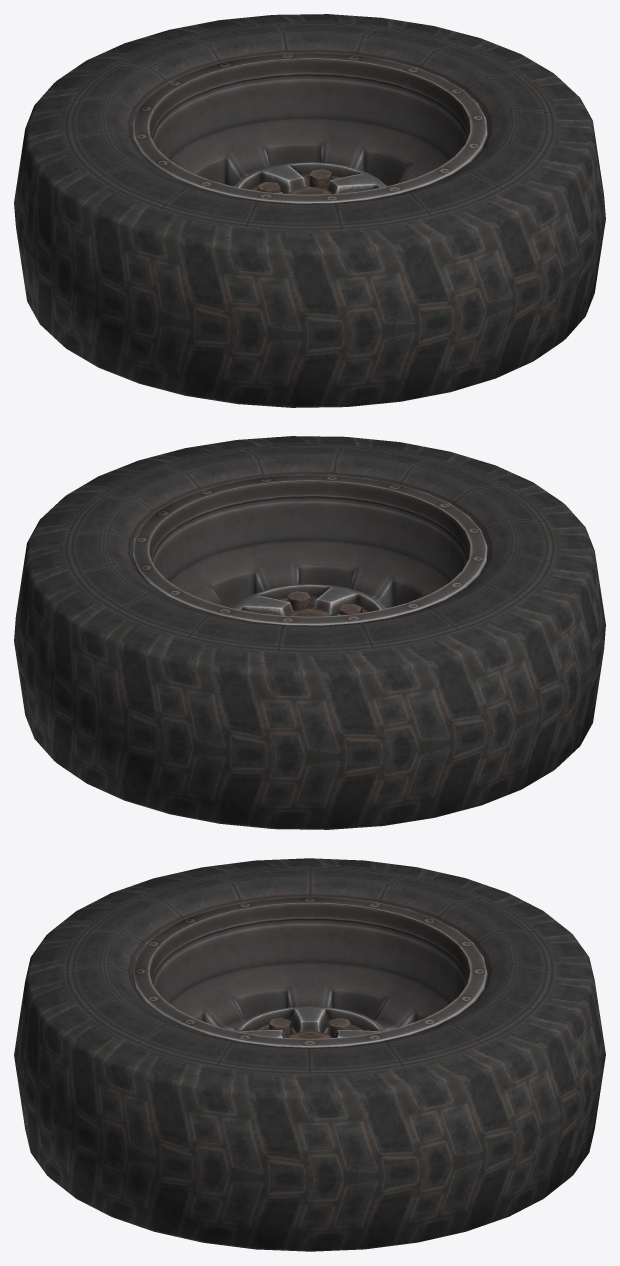
Rendered from Buggy_Wheel_LB.obj.
3 views of the same model, one above another, from view 1: azimuth 30°, elevation 25°; view 2: azimuth 150°, elevation 25°; view 3: azimuth 270°, elevation 25° (orthographic).
Parts seen in each view (by area): view 1: LB_Wheel; view 2: LB_Wheel; view 3: LB_Wheel.
Part boxes in pixels (left/top/right/bottom): LB_Wheel: left=14, top=14, right=605, bottom=407; LB_Wheel: left=14, top=436, right=605, bottom=829; LB_Wheel: left=14, top=858, right=605, bottom=1251.
Size of the model in its own units: 0.8322 by 0.2963 by 0.8322.
Materials: 2 (2 with a texture image).
